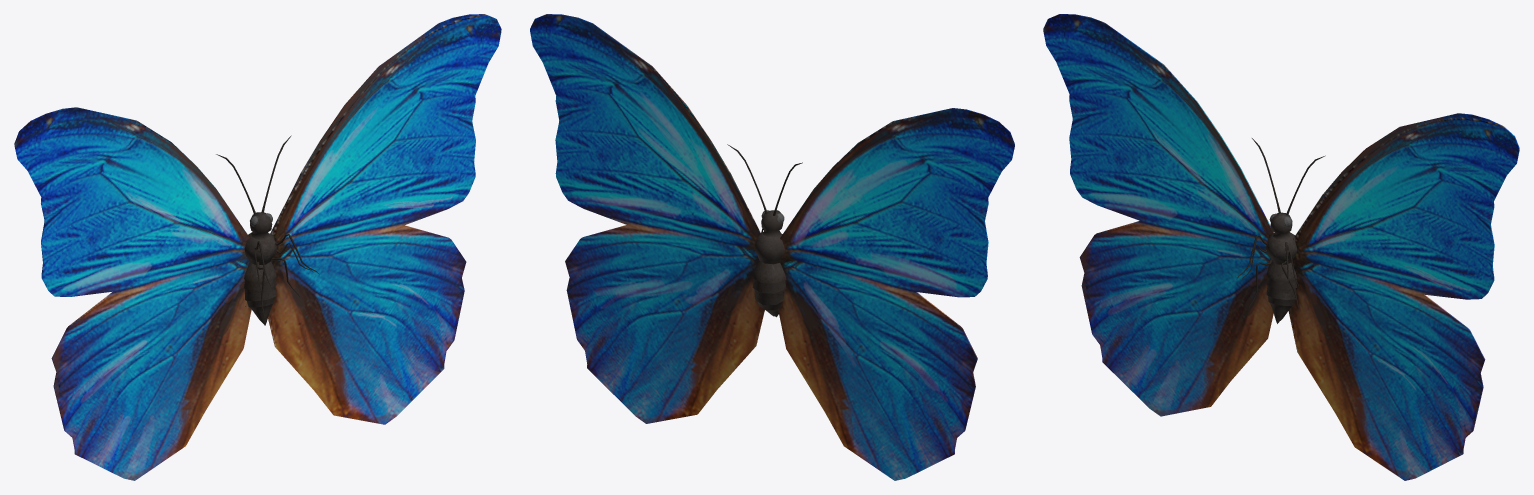
Rendered from butterfly_new.glb.
3 views of the same model, side by side, from view 1: azimuth 30°, elevation 25°; view 2: azimuth 150°, elevation 25°; view 3: azimuth 330°, elevation 25° (orthographic). The views are drawn at different scales.
Visible parts, largest first — view 1: wing_02, wing_01, Butterfly_tri_torso_leg_01; view 2: wing_02, wing_01, Butterfly_tri_torso_leg_01; view 3: wing_01, wing_02, Butterfly_tri_torso_leg_01.
Part boxes in pixels (x1,y1,x2,y2): wing_02: (14, 107, 251, 480); wing_01: (268, 14, 501, 424); Butterfly_tri_torso_leg_01: (216, 135, 319, 325); wing_02: (778, 108, 1014, 480); wing_01: (530, 14, 764, 423); Butterfly_tri_torso_leg_01: (727, 144, 802, 317); wing_01: (1288, 113, 1519, 480); wing_02: (1043, 14, 1273, 416); Butterfly_tri_torso_leg_01: (1236, 138, 1325, 323).
Bounding box in the file's own units: 4.81 × 3.73 × 0.6834.
1 material, 1 textured.
